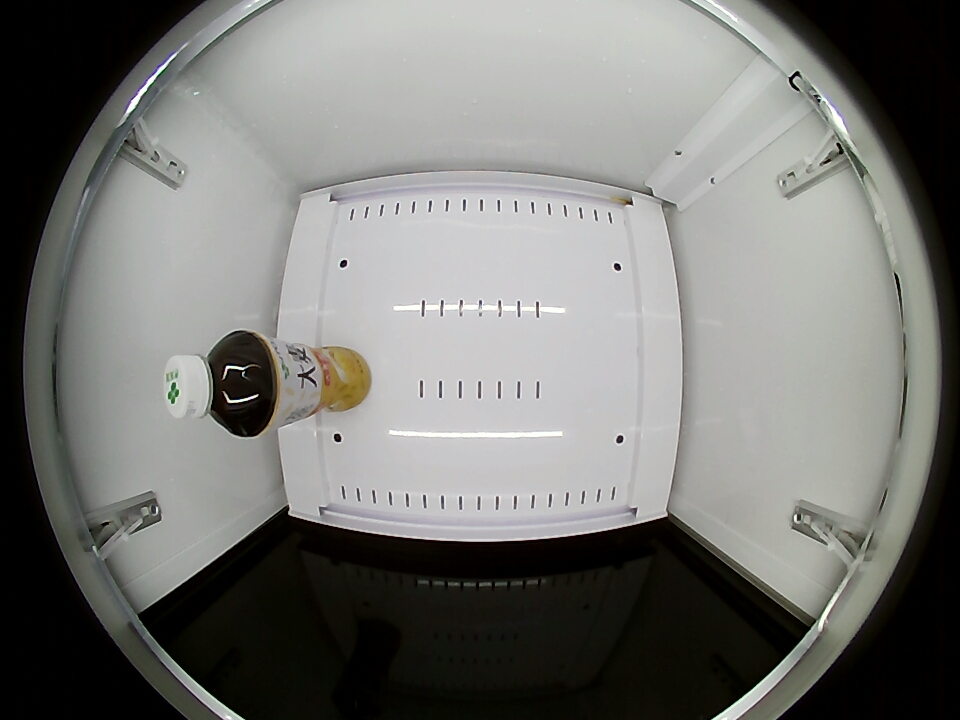damaicha: (164, 331, 273, 437)
